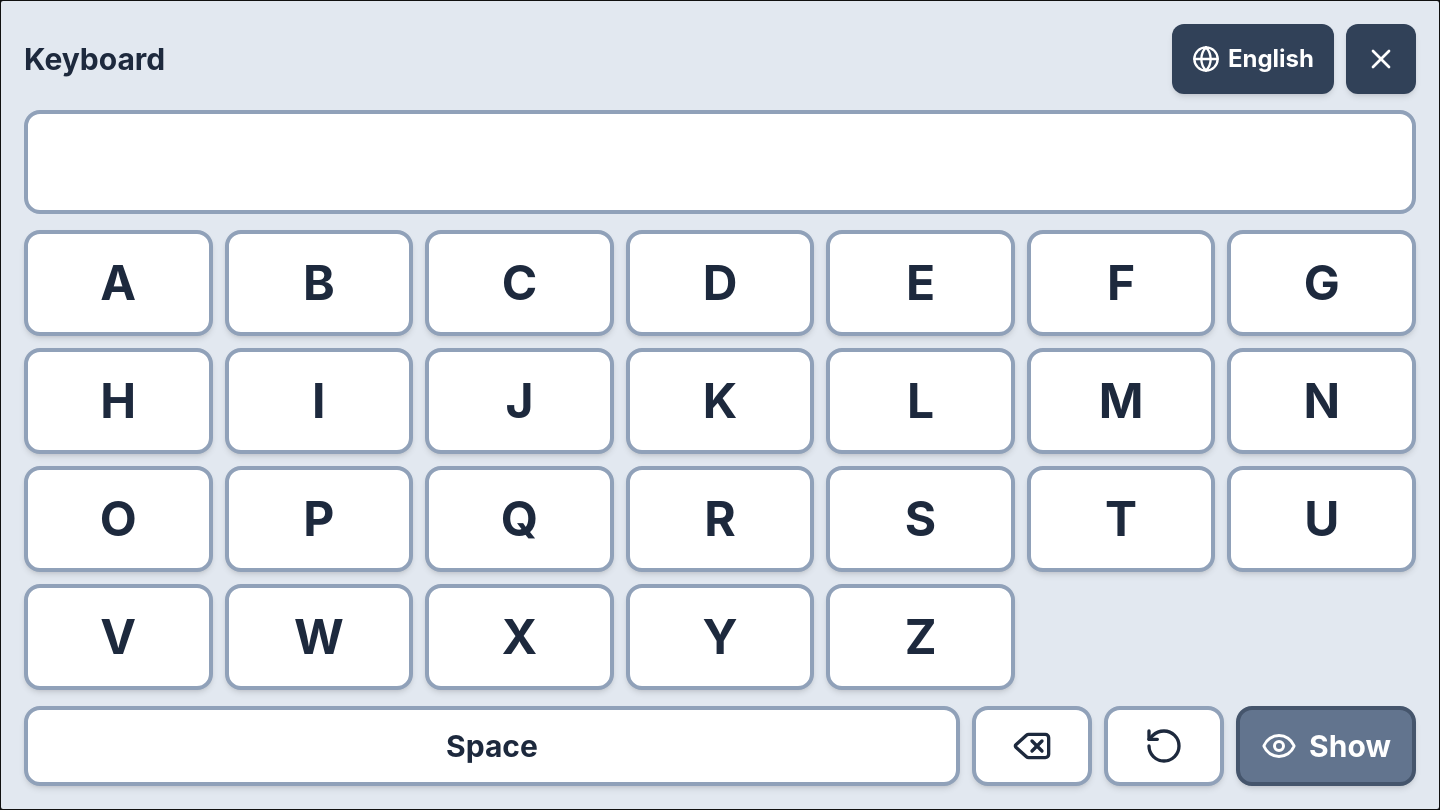
Test case: KeyboardScreen – User Story 1: type and show › Show opens a large-text takeover with the typed message
The width and height of the screenshot is (1440, 810).
Click the button "H" at [118, 401], box top-left (24, 348), bottom-right (213, 454)
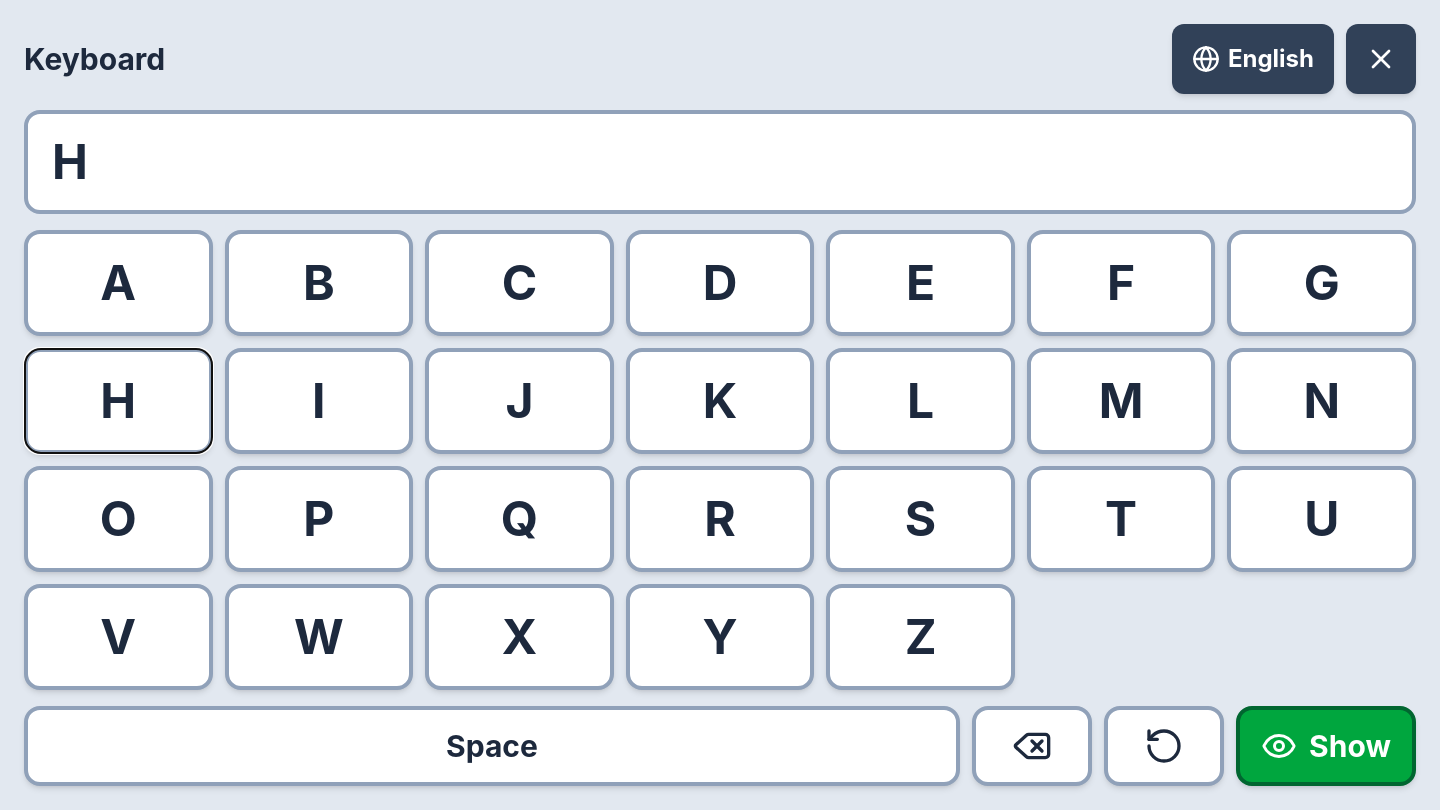
Click the button "I" at [319, 401], box top-left (225, 348), bottom-right (413, 454)
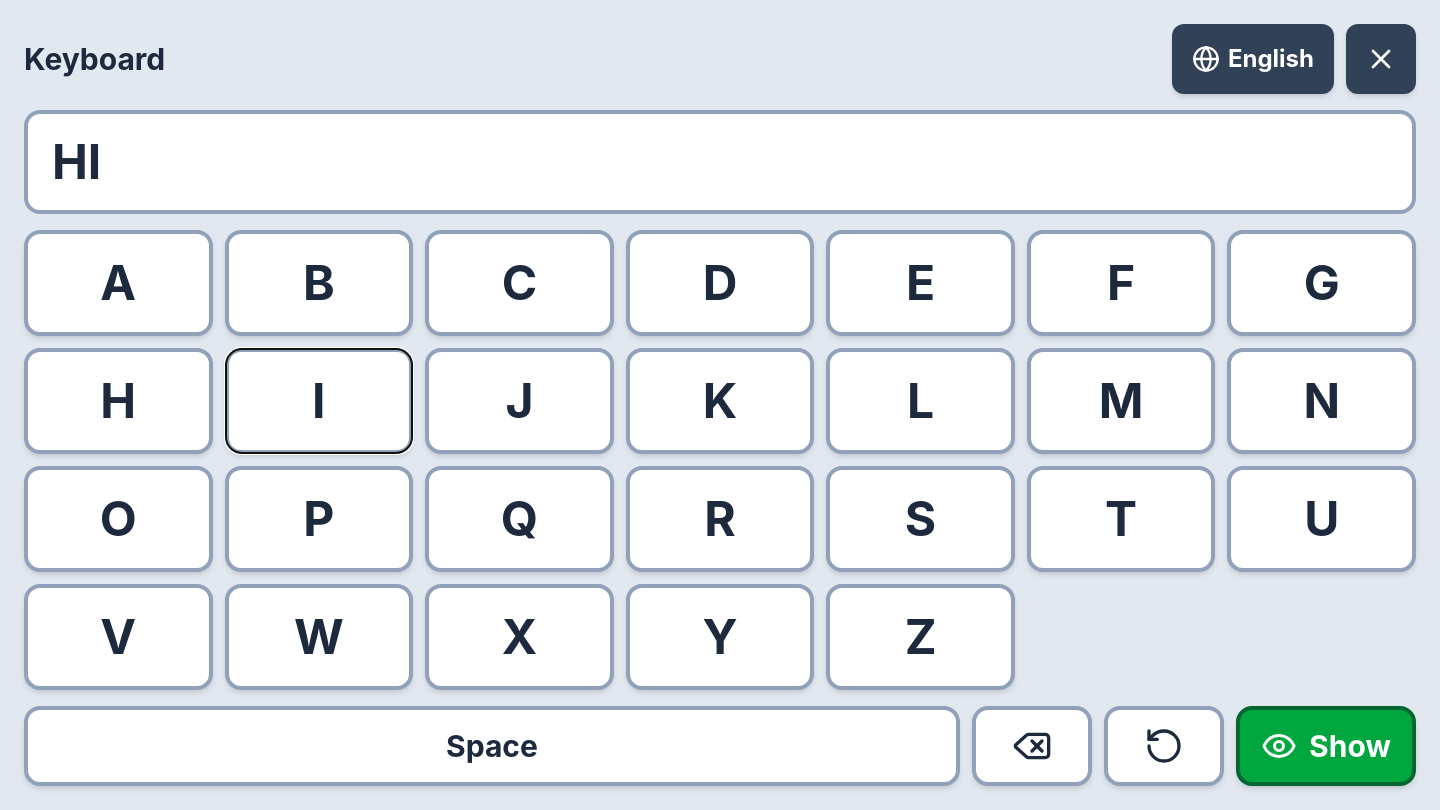
Click the button "Show" at [1326, 746], box top-left (1236, 706), bottom-right (1416, 786)
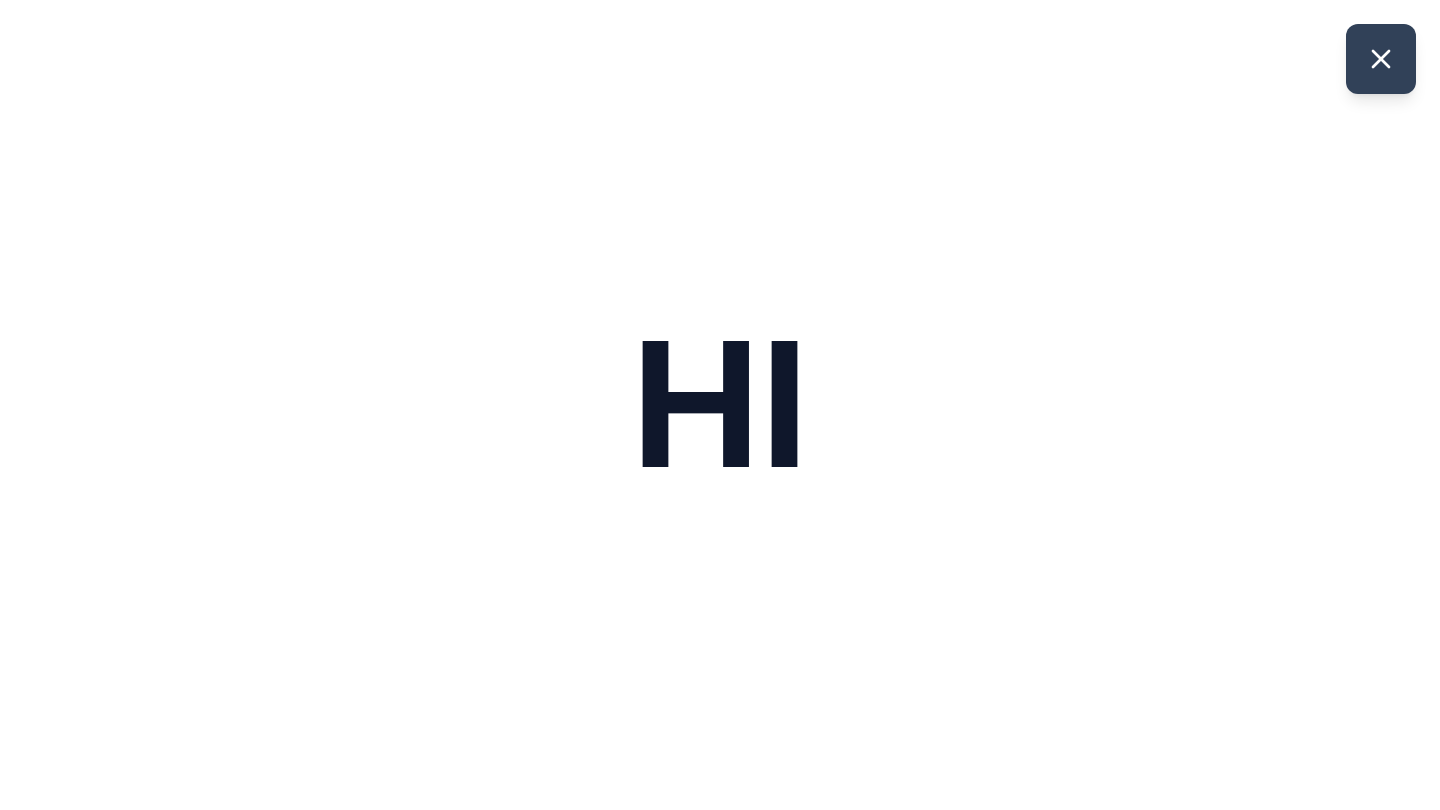
Expected: the text "HI" is shown, top-left (631, 310), bottom-right (809, 500)
